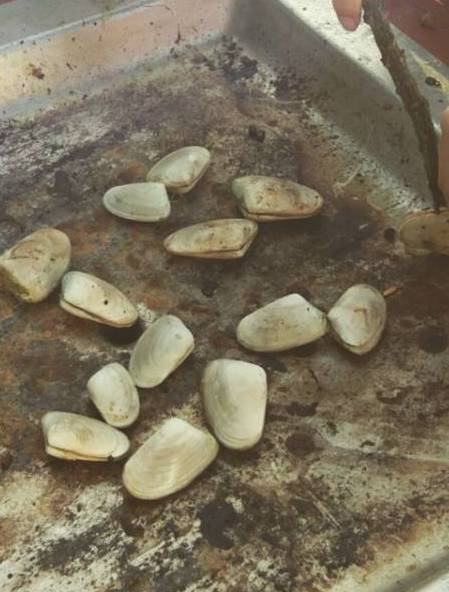tuatua: (118, 415, 221, 502), (197, 353, 270, 456), (232, 291, 334, 353), (2, 223, 72, 303), (228, 170, 327, 226), (130, 312, 197, 393), (56, 271, 141, 331), (324, 280, 389, 357), (39, 410, 130, 465), (163, 214, 264, 263), (85, 359, 140, 427), (144, 143, 213, 191), (101, 177, 174, 222)
